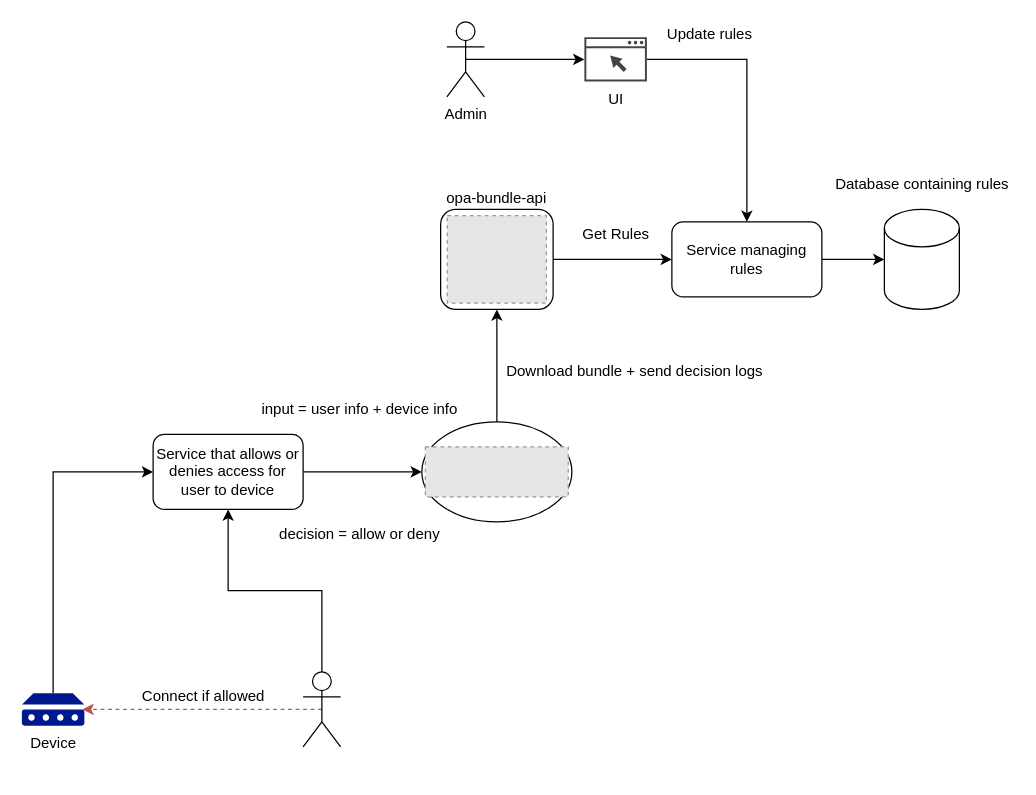
Image size: 1036x795. Some labels were removed from this diagram. Grey dashed boxes stand in for pictures. The centre of each missing label's shape, as x and y in pixels:
DB: the point at 921,258
User: the point at 321,709
